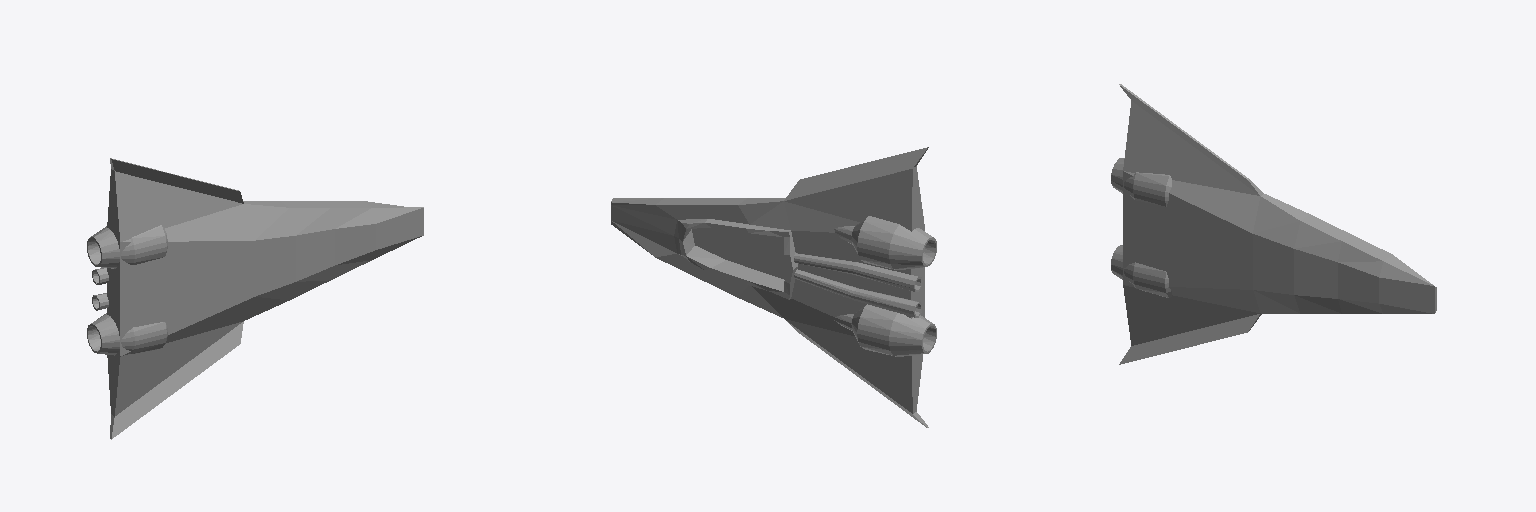
File: spacehip.obj
The picture shows the model from 3 angles: view 1: azimuth 30°, elevation 25°; view 2: azimuth 150°, elevation 25°; view 3: azimuth 330°, elevation 25°; orthographic projection.
Parts seen in each view (by area): view 1: ship-body_Cube; view 2: ship-body_Cube; view 3: ship-body_Cube.
Boxes of the visible parts, x1=… form: ship-body_Cube: x1=87, y1=158, x2=423, y2=439; ship-body_Cube: x1=611, y1=147, x2=936, y2=427; ship-body_Cube: x1=1111, y1=84, x2=1436, y2=364.
Size of the model in its own units: 2.96 by 2.46 by 0.4078.